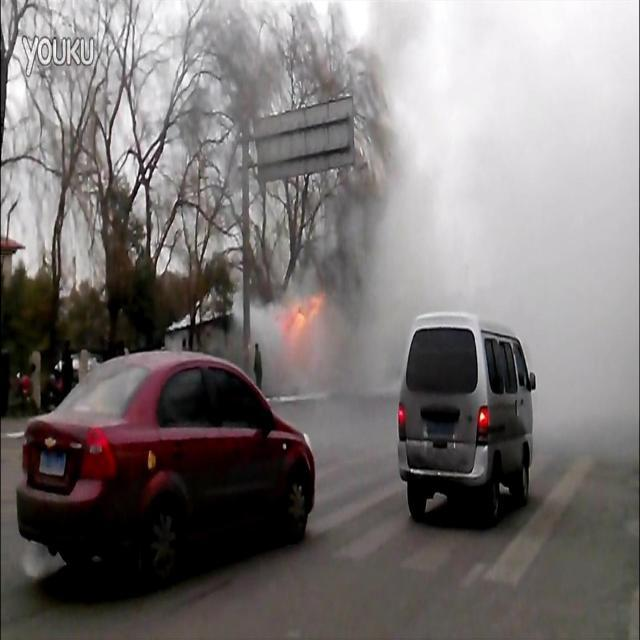Fire: (278, 290, 326, 338)
Smoke: (229, 1, 640, 453)
